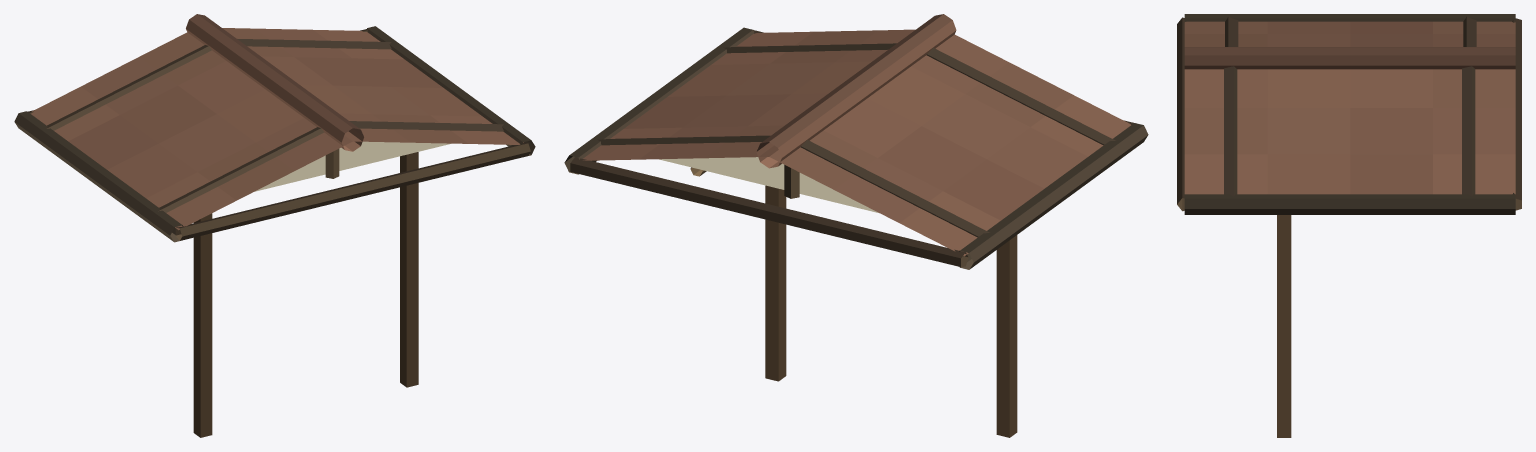
The picture shows the model from 3 angles, left to right: view 1: azimuth 30°, elevation 25°; view 2: azimuth 150°, elevation 25°; view 3: azimuth 270°, elevation 25°; orthographic projection. The views are drawn at different scales.
Visible parts, largest first — view 1: 301c5642eea9c5ad3097bc06debbc62e910f71e7b76207b6d1ddafd8e396; view 2: 301c5642eea9c5ad3097bc06debbc62e910f71e7b76207b6d1ddafd8e396; view 3: 301c5642eea9c5ad3097bc06debbc62e910f71e7b76207b6d1ddafd8e396.
Boxes of the visible parts, x1=… form: 301c5642eea9c5ad3097bc06debbc62e910f71e7b76207b6d1ddafd8e396: x1=14, y1=14, x2=535, y2=437; 301c5642eea9c5ad3097bc06debbc62e910f71e7b76207b6d1ddafd8e396: x1=564, y1=14, x2=1148, y2=437; 301c5642eea9c5ad3097bc06debbc62e910f71e7b76207b6d1ddafd8e396: x1=1177, y1=14, x2=1521, y2=437.
Bounding box in the file's own units: 3.72 × 3.06 × 2.87.
